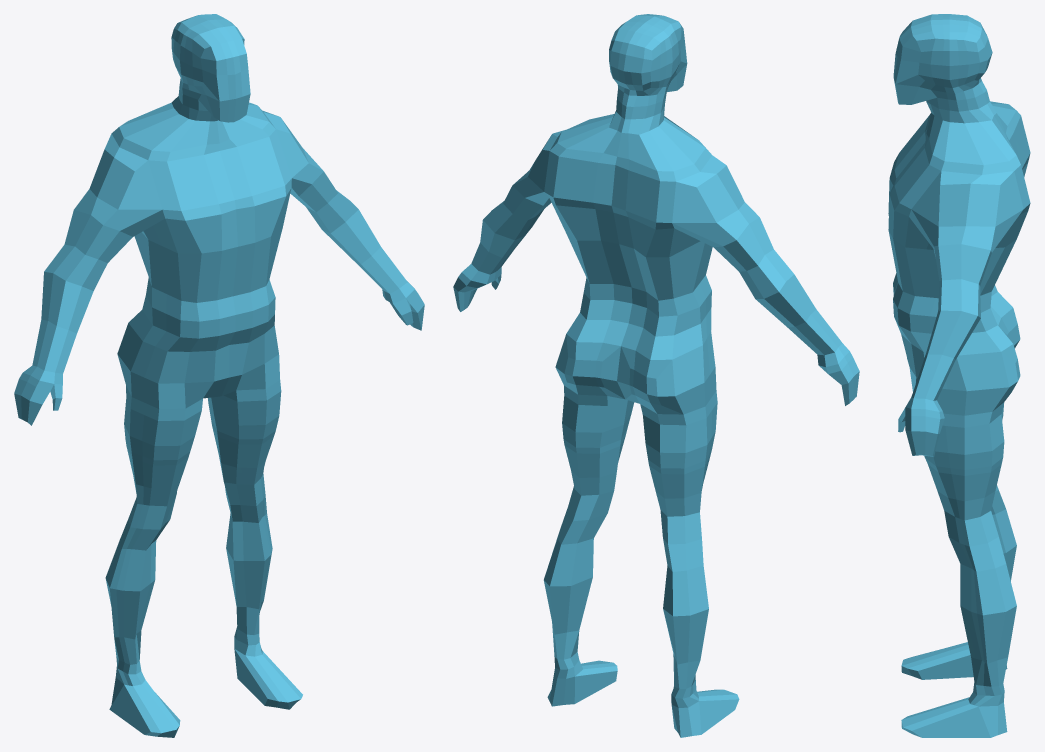
File: human-reference.glb
3 views of the same model, side by side, from view 1: azimuth 30°, elevation 25°; view 2: azimuth 150°, elevation 25°; view 3: azimuth 270°, elevation 25° (orthographic).
Visible parts, largest first — view 1: human-reference; view 2: human-reference; view 3: human-reference.
Boxes of the visible parts, x1,y1,x2,y2 form: human-reference: (14, 14, 424, 737); human-reference: (453, 14, 859, 737); human-reference: (888, 14, 1030, 737).
Bounding box in the file's own units: 1.04 × 1.7 × 0.3215.
